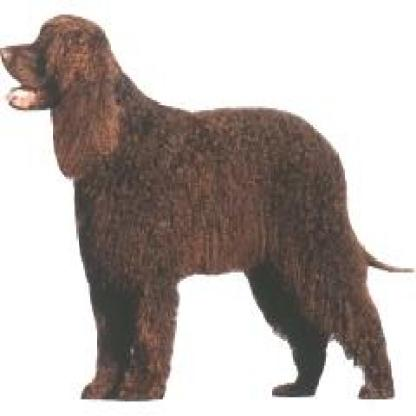Irish_water_spaniel: (0, 14, 411, 400)
